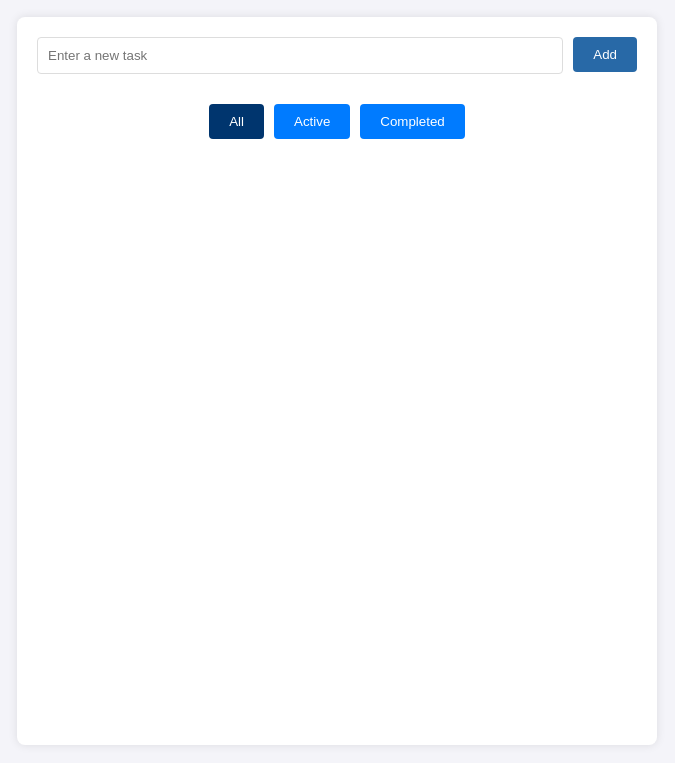
TodoApp › adds a new todo
Type "New Todo" into the field with test id "todo-input" at (300, 56), box [37, 37, 563, 74]
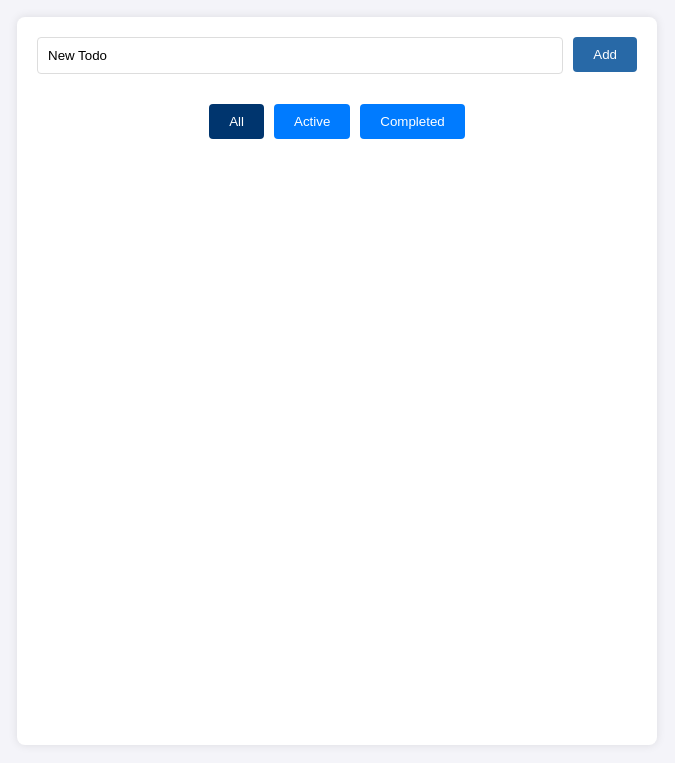
Click the button with test id "add-todo" at (605, 54), box [573, 37, 637, 72]
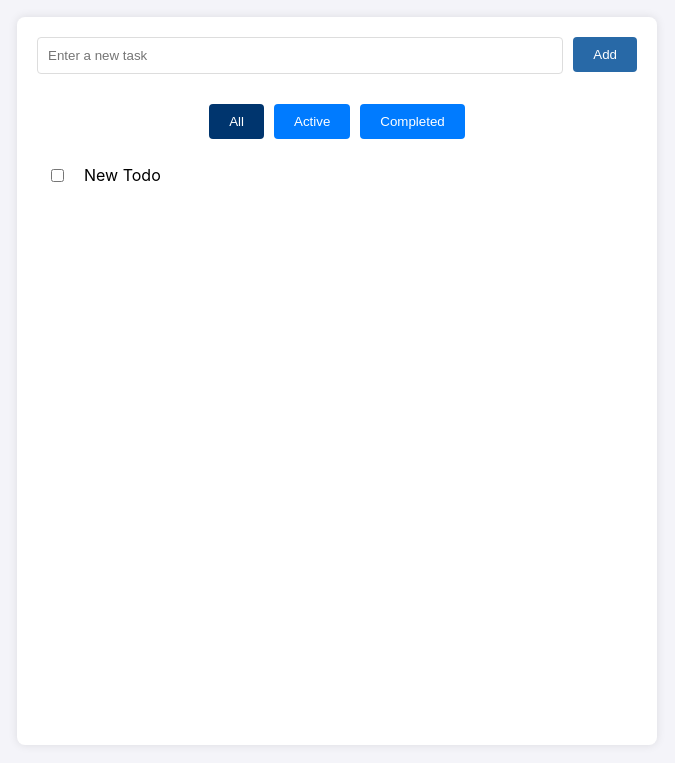
Now the text "New Todo" is shown, box [84, 165, 161, 185]
